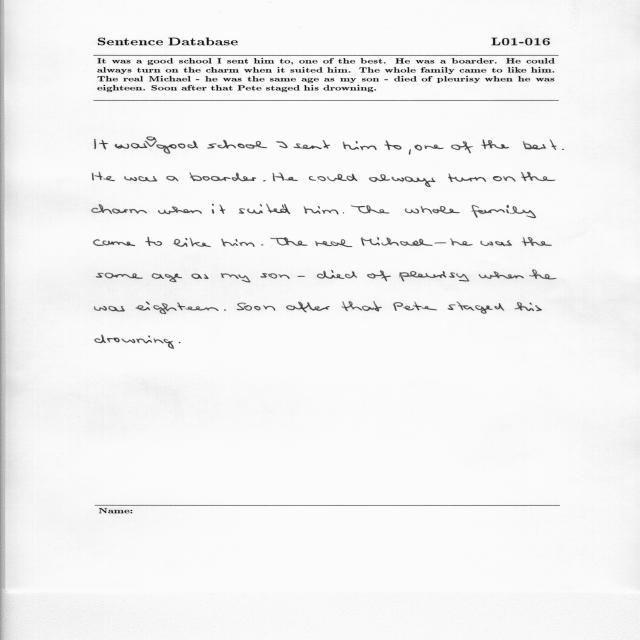word: (95, 335, 174, 349), (136, 302, 219, 314), (369, 174, 435, 187), (471, 205, 536, 218), (400, 271, 470, 282), (131, 137, 176, 154), (448, 302, 504, 314), (361, 237, 433, 246), (190, 172, 256, 181), (92, 204, 147, 214), (208, 140, 268, 149), (239, 204, 290, 214), (286, 302, 330, 313), (405, 206, 460, 214), (341, 302, 382, 312), (393, 302, 437, 311), (309, 174, 357, 182), (317, 270, 357, 279), (479, 271, 524, 279), (158, 207, 202, 215), (448, 173, 486, 182), (351, 205, 389, 214), (173, 238, 211, 247), (270, 237, 308, 246), (523, 140, 556, 150), (294, 140, 330, 149), (304, 206, 339, 215), (343, 141, 377, 150), (521, 172, 555, 181), (237, 303, 275, 311), (316, 239, 353, 247), (221, 273, 250, 283), (94, 239, 135, 246), (451, 141, 473, 154), (96, 273, 143, 279), (481, 140, 509, 150), (221, 239, 255, 247), (522, 237, 552, 246), (152, 273, 182, 282), (529, 270, 556, 280), (367, 271, 391, 282), (514, 302, 542, 311), (272, 173, 298, 182), (92, 172, 115, 181), (124, 176, 157, 182), (480, 240, 512, 246), (450, 238, 473, 246), (384, 141, 402, 151), (415, 145, 444, 151), (261, 273, 290, 279), (178, 141, 198, 149), (145, 237, 162, 246), (95, 306, 125, 311), (94, 139, 108, 149), (493, 176, 515, 182), (212, 204, 225, 214), (191, 274, 209, 279), (276, 141, 288, 148), (115, 144, 129, 149), (167, 176, 179, 181), (435, 242, 446, 244), (409, 149, 411, 155), (298, 276, 305, 277), (263, 180, 266, 182), (261, 244, 263, 246), (224, 309, 226, 311), (562, 149, 564, 150), (343, 212, 344, 214), (179, 342, 181, 343)
